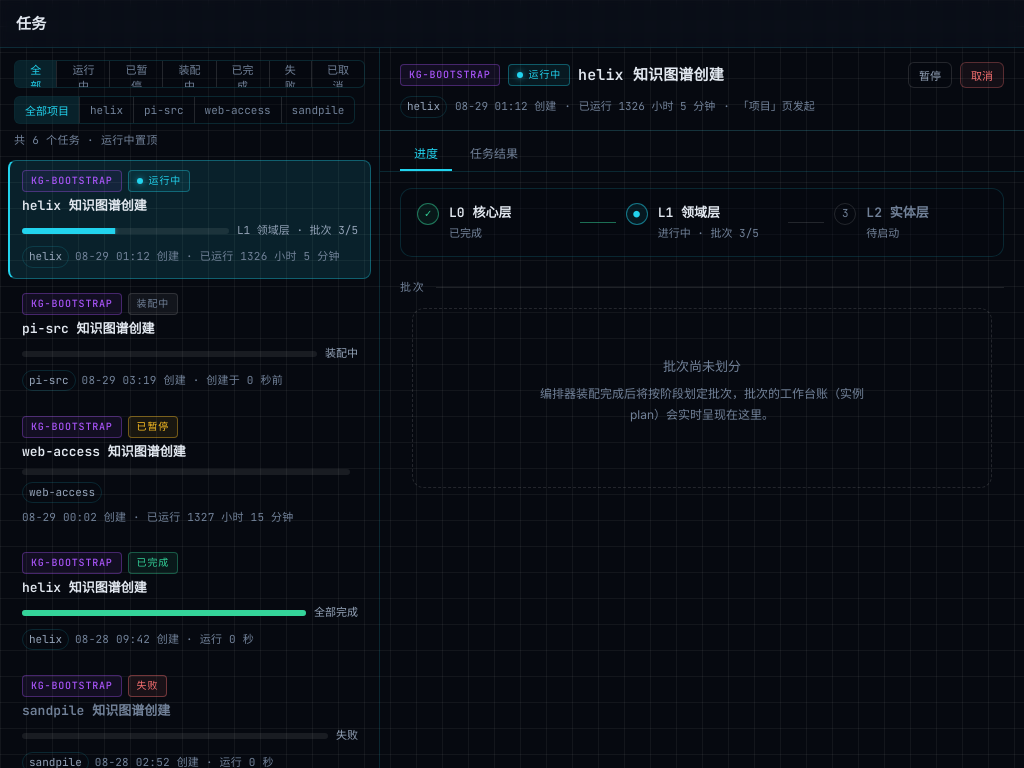
Test: P-2 TasksPage：artifacts 迟到帧竞态（T4.3 在途 ref 关联） › A 在途切到 B：A 的迟到回执不以 B 的 jobId 落库（watcher 重拉 B）；B 的在途请求正常落库
// A（job-run）结果 tab：请求发出在途
Click the button "任务结果". click: (494, 154)
box: [456,137,532,171]
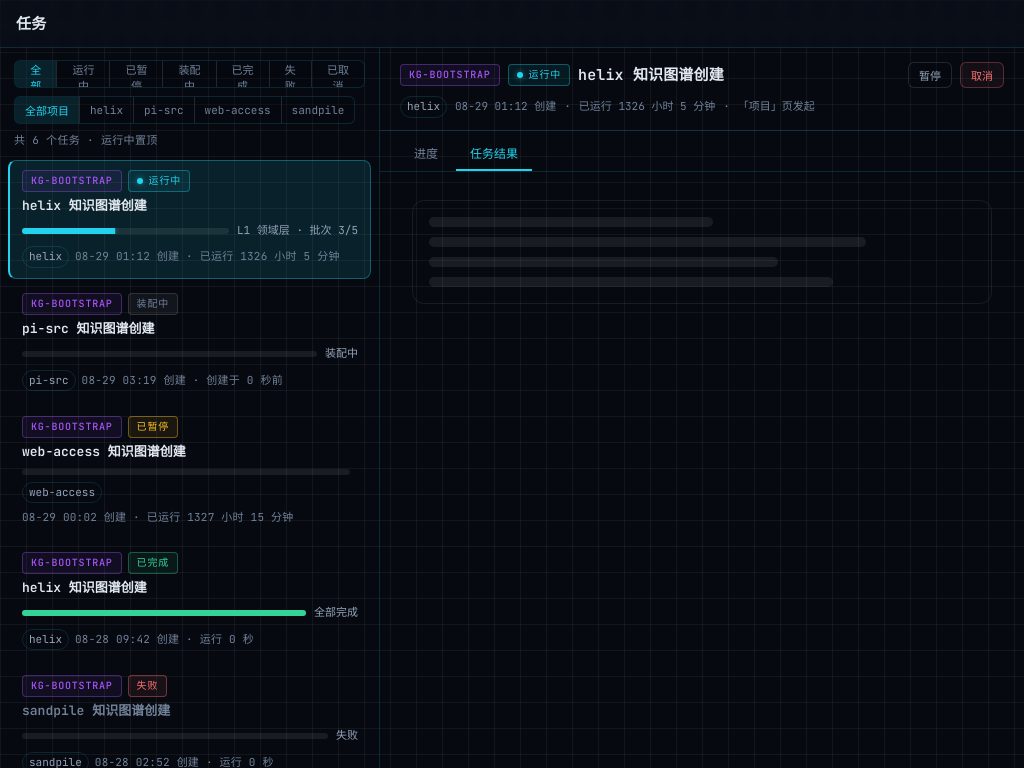
Click the 3rd button with class "tk-row". click: (190, 472)
box: [8,406,371,538]
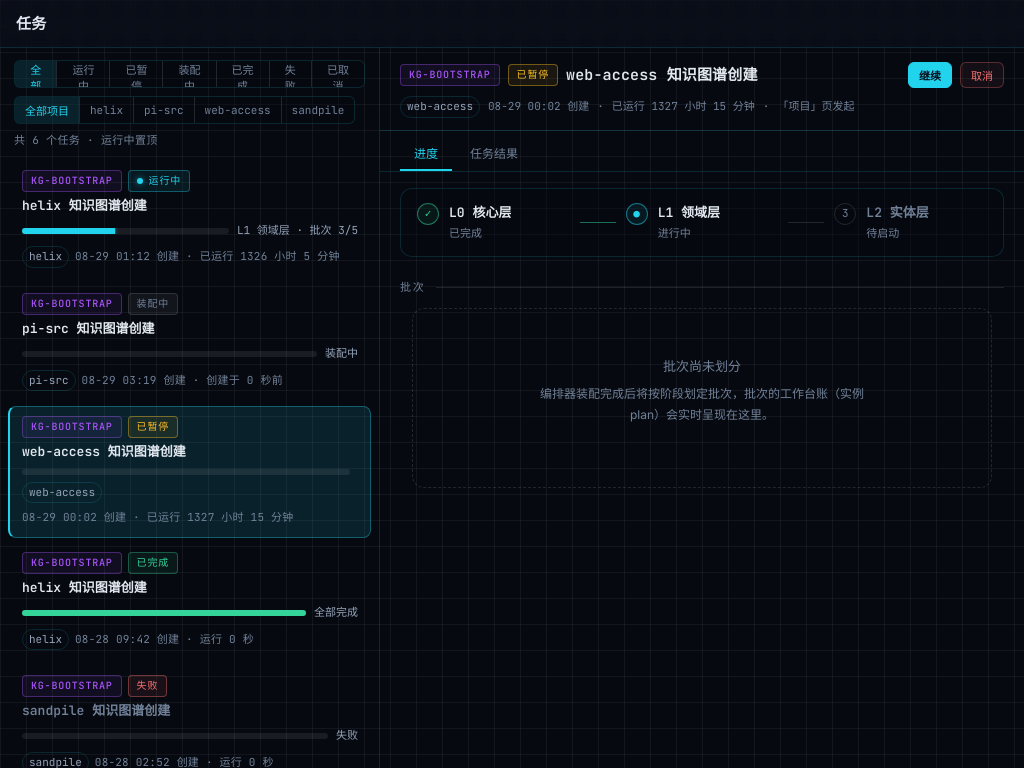
// 切到 B 的结果 tab：A 的回执不得以 B 落库 → artifactsJob≠selected → watcher 重拉 B
Click the button "任务结果". click: (494, 154)
box: [456,137,532,171]
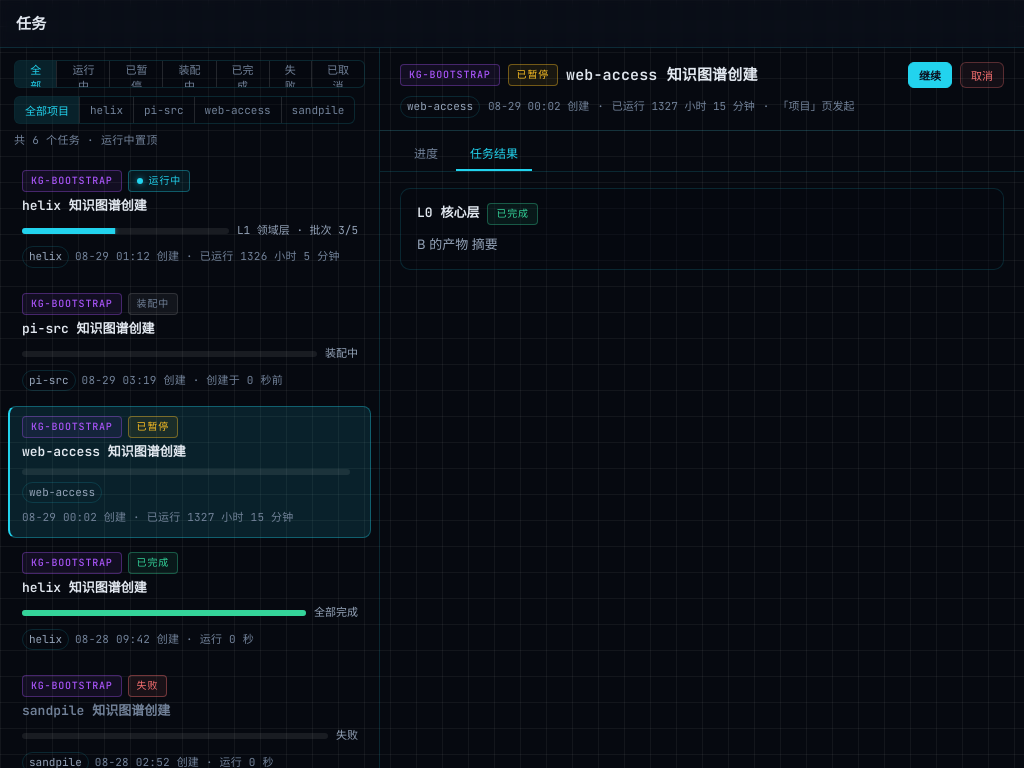
Now the text with class "tk-art-sum" reads "B 的产物 摘要", box [417,236,498,252]
